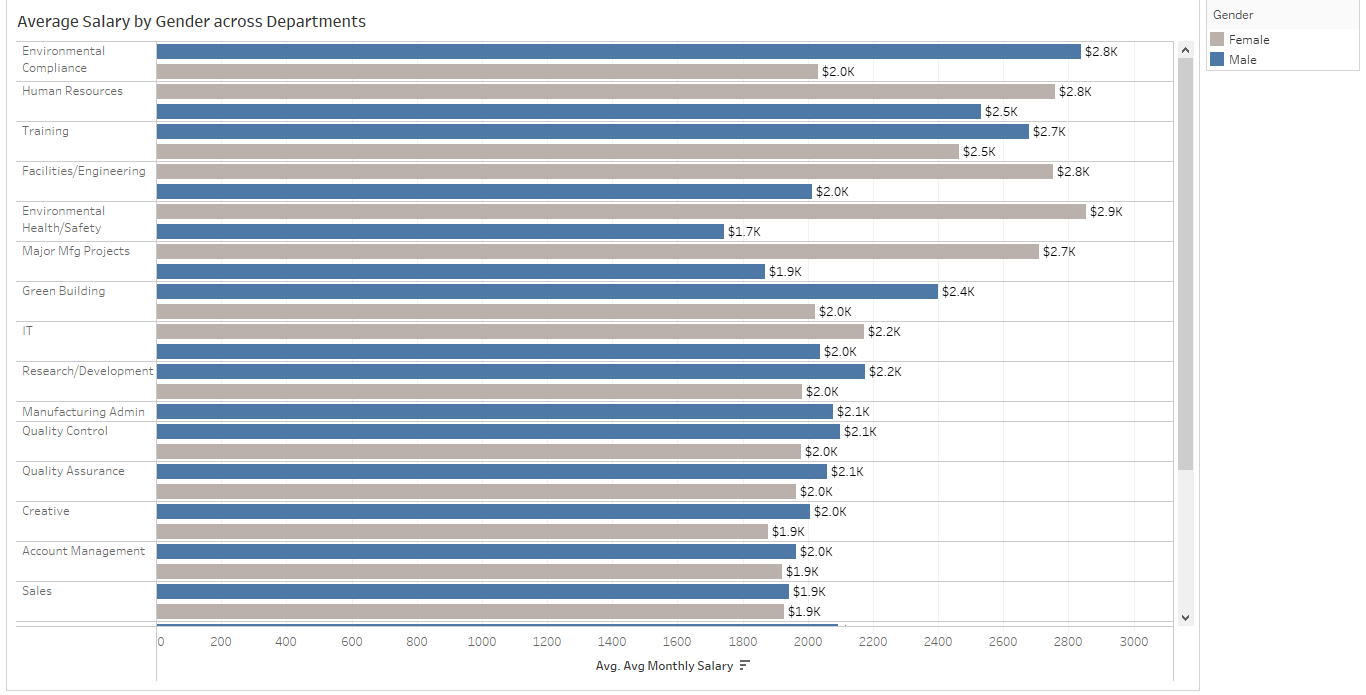

Layout of this report page (visuals, bound fields, positions):
{"tool":"tableau","page":{"name":"Dashboard 5","canvas":[1000,1000],"units":"permille","ordinal":4},"visuals":[{"type":"worksheet","title":"Sheet 15","mark":"Automatic","rows":["department","country"],"cols":["Avg Job rate"],"box":[6.9,13.5,986.1,973]}]}

Visuals, with their boxes on the dashboard's canvas, which has no fixed pixel size, in thousandths of its width and height (x1, y1, x2, y2). These are canvas units, not pixel positions in the 1366x695 screenshot, which may show the page scaled, cropped or inside an application window:
"Sheet 15" worksheet: region(7, 14, 993, 986)
